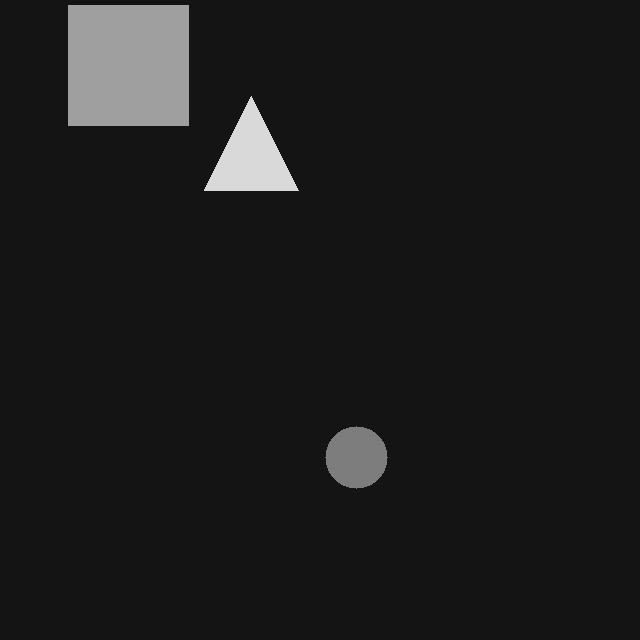circle: (325, 426, 387, 488)
square: (68, 5, 188, 125)
triangle: (204, 96, 298, 190)
